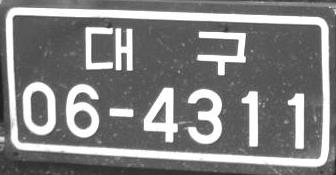0: (21, 80, 57, 136)
1: (234, 90, 269, 148), (282, 91, 314, 151)
3: (187, 88, 222, 144)
4: (141, 85, 178, 143)
6: (65, 83, 100, 138)
대구_D: (85, 26, 246, 76)
